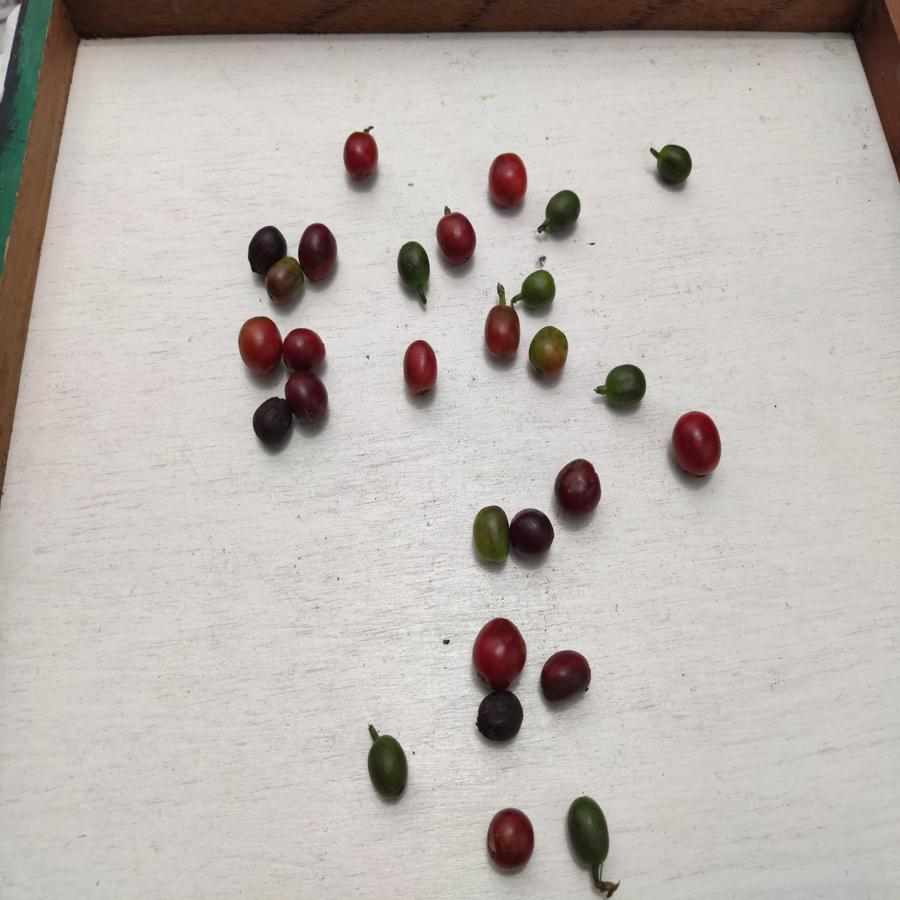Inmaduro: (605, 364, 645, 409), (398, 240, 432, 292), (542, 190, 583, 230), (518, 269, 556, 310), (656, 144, 693, 186)
Maduro: (473, 617, 527, 689), (670, 410, 723, 479), (567, 793, 613, 870), (365, 734, 413, 799), (236, 315, 283, 374), (490, 153, 528, 209), (341, 130, 383, 180), (402, 340, 437, 397), (484, 307, 520, 362)
Pinton: (473, 504, 510, 567), (529, 324, 569, 378), (266, 260, 306, 303)
Sobremaduro: (484, 806, 536, 870), (552, 458, 603, 516), (538, 650, 594, 702), (475, 691, 527, 741), (436, 208, 480, 264), (509, 506, 557, 555), (286, 373, 329, 424), (302, 224, 339, 282), (283, 327, 329, 373), (252, 397, 294, 445), (245, 226, 287, 260)
